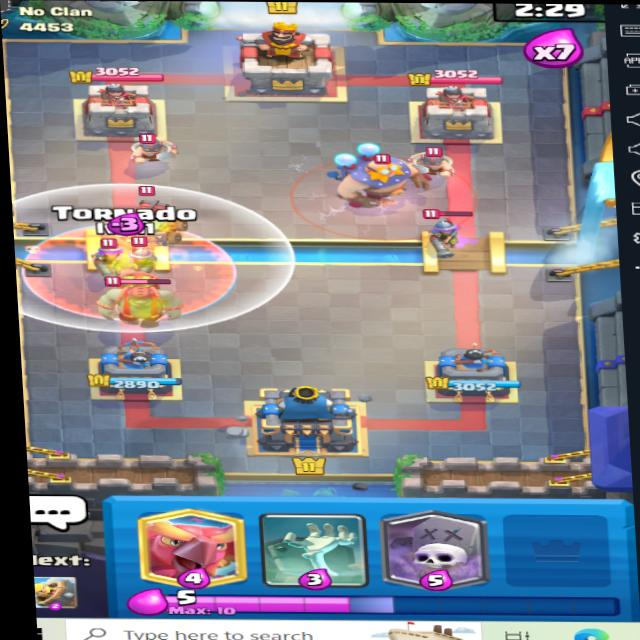electro-barbarians: (401, 141, 459, 179), (126, 126, 182, 161)
electro-giant: (322, 147, 441, 213)
goblin-giant: (93, 266, 183, 330)
musketeer: (415, 208, 477, 254), (83, 234, 148, 275), (118, 228, 172, 274)
sparky: (105, 184, 200, 247)
